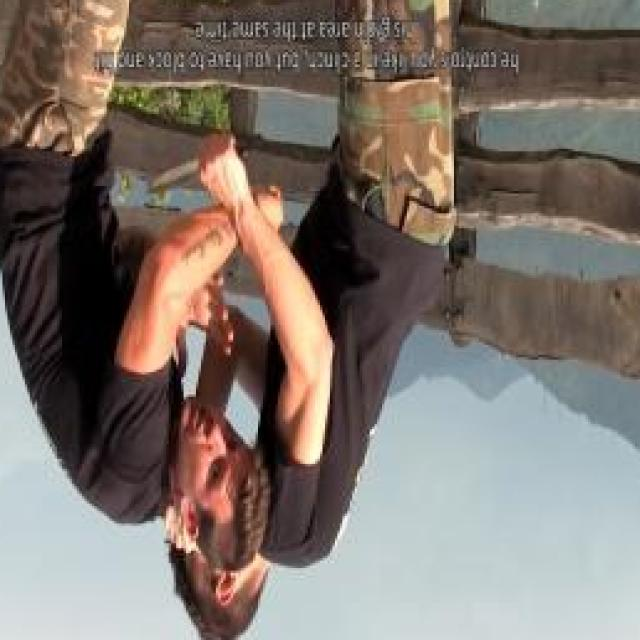knife: (141, 128, 253, 206)
